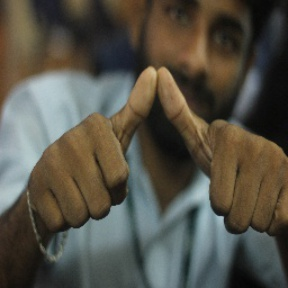A: (73, 60, 249, 219)
